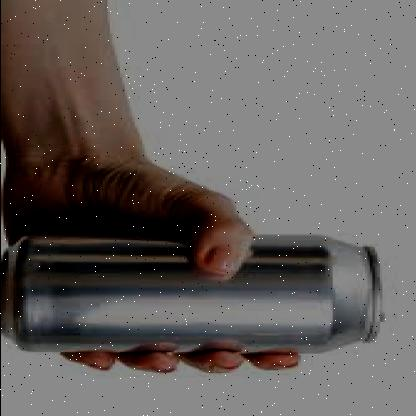Can: (0, 233, 382, 356)
